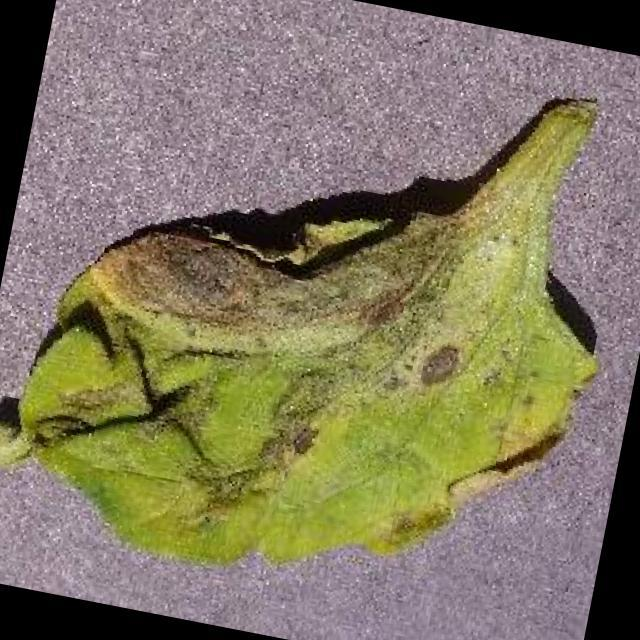Tomato Septoria spot leaf: (0, 130, 621, 634)
